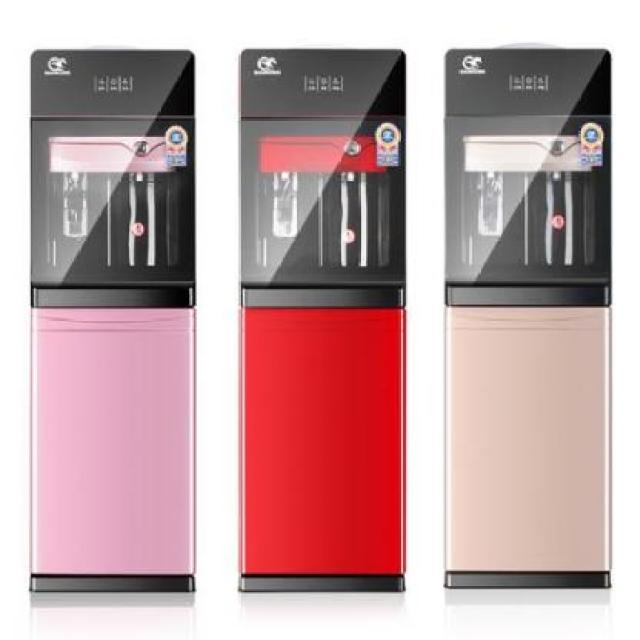cooler: (233, 41, 414, 598), (25, 43, 199, 599), (443, 45, 617, 597)
